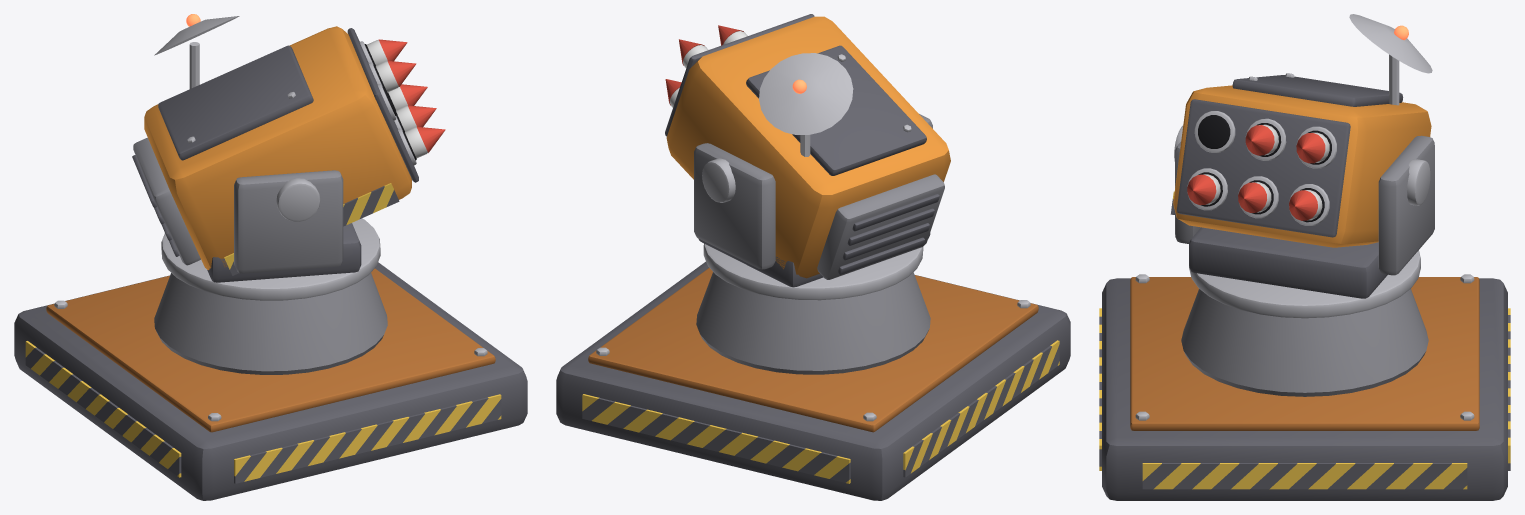
The model's file is MissileLauncher.glb.
3 views of the same model, side by side, from view 1: azimuth 30°, elevation 25°; view 2: azimuth 150°, elevation 25°; view 3: azimuth 270°, elevation 25° (orthographic). The views are drawn at different scales.
Visible parts, largest first — view 1: MissileLauncher; view 2: MissileLauncher; view 3: MissileLauncher.
Boxes of the visible parts, <box> form: MissileLauncher: <box>14,14,527,500</box>; MissileLauncher: <box>556,14,1070,500</box>; MissileLauncher: <box>1099,14,1510,500</box>.
Bounding box in the file's own units: 1.06 × 1.1 × 1.06.
